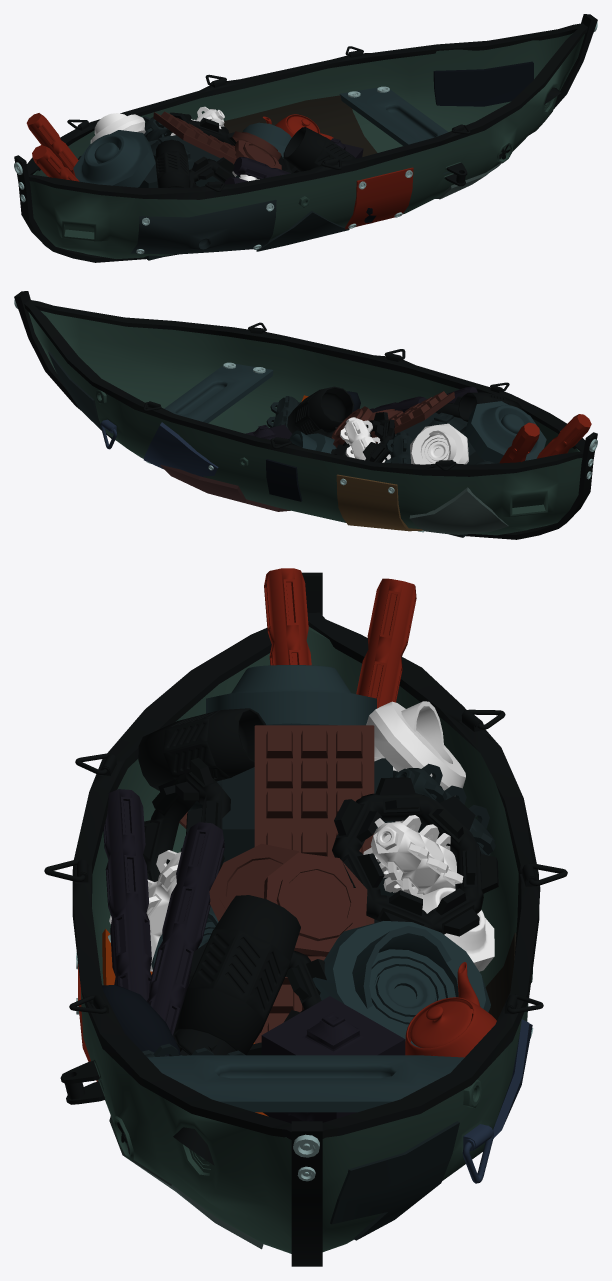
File: JunkBoat01.fbx
3 renders of one model, top to bottom at view 1: azimuth 30°, elevation 25°; view 2: azimuth 150°, elevation 25°; view 3: azimuth 270°, elevation 25°, orthographic. The views are drawn at different scales.
Parts seen in each view (by area): view 1: BoatBody002, Boat02, Line052, Cylinder293, Box380, Line050, Line053, Cylinder288, Cylinder290, Box384, Plane003, Cylinder292 (+12 smaller); view 2: BoatBody002, Line052, Boat02, Box380, Cylinder293, Line051, Line053, Box382, Cylinder288, Box381, Cylinder301, Torus009 (+12 smaller); view 3: BoatBody002, Line052, Box384, Box380, Cylinder288, Boat02, Cylinder294, Torus009, Cylinder300, Cylinder299, Cylinder293, Cylinder289 (+17 smaller).
Boxes of the visible parts, <box> form: BoatBody002: <box>29,33,584,258</box>; Boat02: <box>131,61,561,254</box>; Line052: <box>27,23,587,199</box>; Cylinder293: <box>73,130,155,187</box>; Box380: <box>339,86,449,174</box>; Line050: <box>345,167,413,229</box>; Line053: <box>14,14,597,262</box>; Cylinder288: <box>283,127,356,171</box>; Cylinder290: <box>155,140,189,187</box>; Box384: <box>153,111,237,164</box>; Plane003: <box>256,211,349,251</box>; Cylinder292: <box>26,113,78,176</box>; BoatBody002: <box>28,310,582,535</box>; Line052: <box>24,300,585,476</box>; Boat02: <box>48,352,308,511</box>; Box380: <box>164,364,273,423</box>; Cylinder293: <box>464,401,546,463</box>; Line051: <box>336,474,423,531</box>; Line053: <box>14,291,597,539</box>; Box382: <box>409,487,508,534</box>; Cylinder288: <box>287,386,354,434</box>; Box381: <box>143,422,218,477</box>; Cylinder301: <box>410,423,468,464</box>; Torus009: <box>331,412,394,462</box>; BoatBody002: <box>81,626,532,1253</box>; Line052: <box>44,612,567,1139</box>; Box384: <box>254,725,374,1043</box>; Box380: <box>100,1055,464,1112</box>; Cylinder288: <box>173,895,300,1055</box>; Boat02: <box>60,812,516,1249</box>; Cylinder294: <box>312,921,490,1048</box>; Torus009: <box>332,777,498,936</box>; Cylinder300: <box>103,789,151,1000</box>; Cylinder299: <box>147,822,224,1042</box>; Cylinder293: <box>206,665,376,725</box>; Cylinder289: <box>264,852,367,956</box>.
Bounding box in the file's own units: 489 × 124 × 191.
